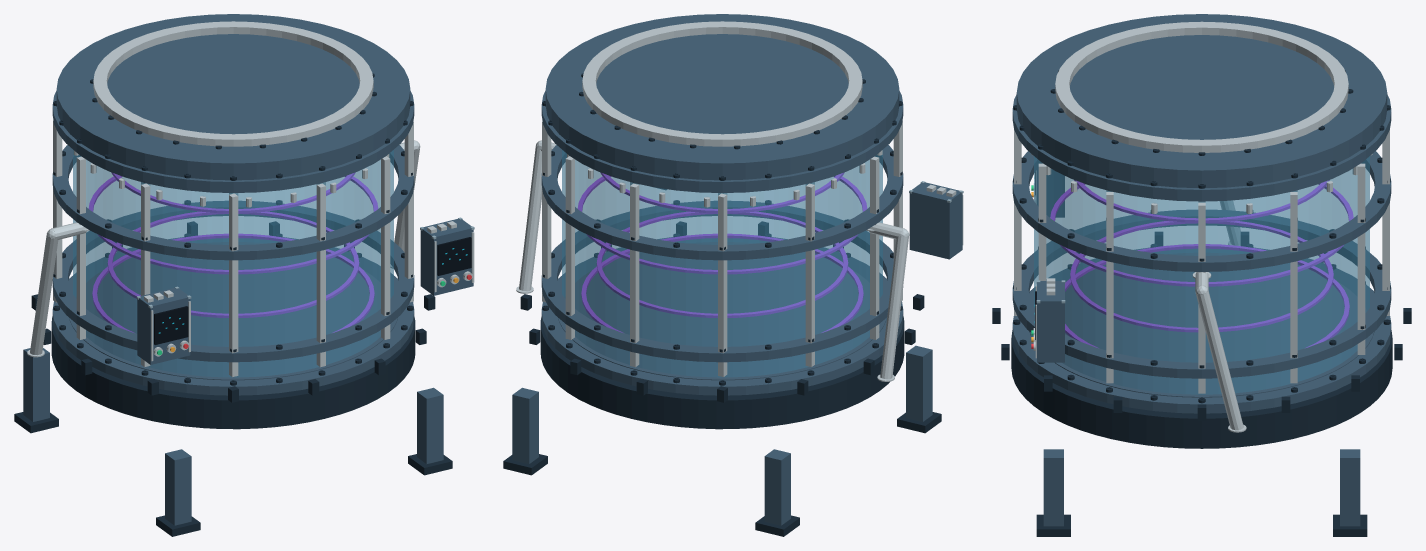
File: 12_L78_CopperCapPECVDReactor.fbx
3 renders of one model, left to right at view 1: azimuth 30°, elevation 25°; view 2: azimuth 150°, elevation 25°; view 3: azimuth 270°, elevation 25°, orthographic. The views are drawn at different scales.
Visible parts, largest first — view 1: CopperCapPECVDReactor; view 2: CopperCapPECVDReactor; view 3: CopperCapPECVDReactor.
Boxes of the visible parts, x1,y1,x2,y2 form: CopperCapPECVDReactor: [14, 14, 474, 536]; CopperCapPECVDReactor: [503, 14, 963, 536]; CopperCapPECVDReactor: [992, 14, 1411, 536].
Bounding box in the file's own units: 425 × 393 × 392.
